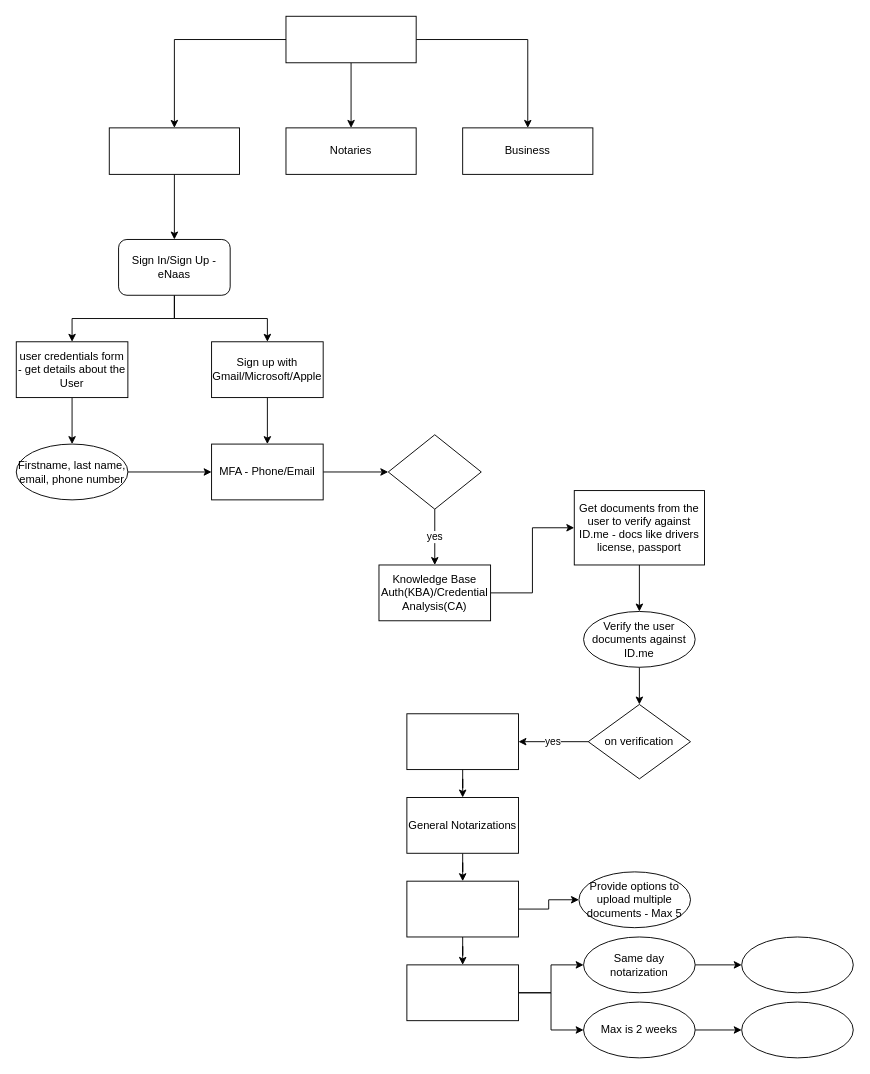
The diagram is 870 pixels wide and 1074 high, and some of its shapes have lost their labels. The box of each missing label's shape, as (x1, y1, x2, y2) in pixels:
Display options: (406, 964, 518, 1021)
DocuWerx Website: (285, 15, 416, 63)
eNaaS Booking: (406, 713, 518, 770)
Individual: (108, 127, 239, 174)
lets say $25: (741, 1001, 853, 1058)
lets say $50: (741, 936, 853, 993)
MFA - Pending approval: (387, 434, 481, 509)
Upload document to be notarized: (406, 880, 518, 937)
